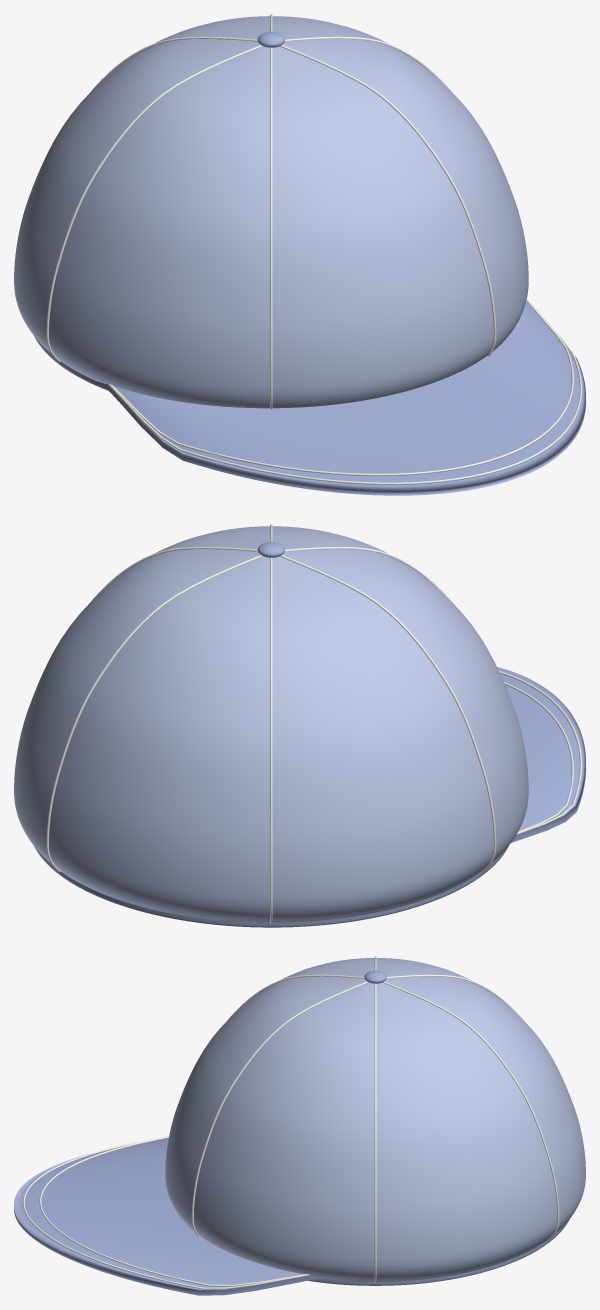
File: sun-cap.glb
3 views of the same model, one above another, from view 1: azimuth 30°, elevation 25°; view 2: azimuth 150°, elevation 25°; view 3: azimuth 270°, elevation 25° (orthographic). The views are drawn at different scales.
Parts seen in each view (by area): view 1: continuous-open-six-panel-cloth-crown, attached-curved-bill-with-solid-edge, complete-sewn-cap-012, complete-sewn-cap-011, complete-sewn-cap-006, complete-sewn-cap-004, complete-sewn-cap-005; view 2: continuous-open-six-panel-cloth-crown, attached-curved-bill-with-solid-edge, attached-inner-sweatband, complete-sewn-cap-006, complete-sewn-cap-008, complete-sewn-cap-007, complete-sewn-cap-012, complete-sewn-cap-011; view 3: continuous-open-six-panel-cloth-crown, attached-curved-bill-with-solid-edge, complete-sewn-cap-012, attached-inner-sweatband, complete-sewn-cap-011, complete-sewn-cap-003, complete-sewn-cap-008, complete-sewn-cap-004.
Boxes of the visible parts, x1,y1,x2,y2 form: continuous-open-six-panel-cloth-crown: (14, 16, 528, 408); attached-curved-bill-with-solid-edge: (99, 301, 585, 495); complete-sewn-cap-012: (107, 299, 582, 484); complete-sewn-cap-011: (110, 299, 573, 475); complete-sewn-cap-006: (46, 45, 262, 362); complete-sewn-cap-004: (280, 45, 496, 356); complete-sewn-cap-005: (270, 47, 272, 409); continuous-open-six-panel-cloth-crown: (14, 526, 528, 922); attached-curved-bill-with-solid-edge: (497, 667, 585, 842); attached-inner-sweatband: (34, 846, 508, 927); complete-sewn-cap-006: (280, 555, 496, 872); complete-sewn-cap-008: (46, 555, 262, 872); complete-sewn-cap-007: (270, 557, 272, 923); complete-sewn-cap-012: (499, 671, 582, 835); complete-sewn-cap-011: (504, 682, 573, 832); continuous-open-six-panel-cloth-crown: (165, 958, 585, 1281); attached-curved-bill-with-solid-edge: (14, 1138, 324, 1295); complete-sewn-cap-012: (23, 1136, 311, 1289); attached-inner-sweatband: (308, 1219, 569, 1285); complete-sewn-cap-011: (39, 1136, 307, 1286); complete-sewn-cap-003: (374, 983, 376, 1282); complete-sewn-cap-008: (382, 981, 559, 1240); complete-sewn-cap-004: (191, 981, 368, 1235).
Bounding box in the file's own units: 1.48 × 0.9424 × 2.
